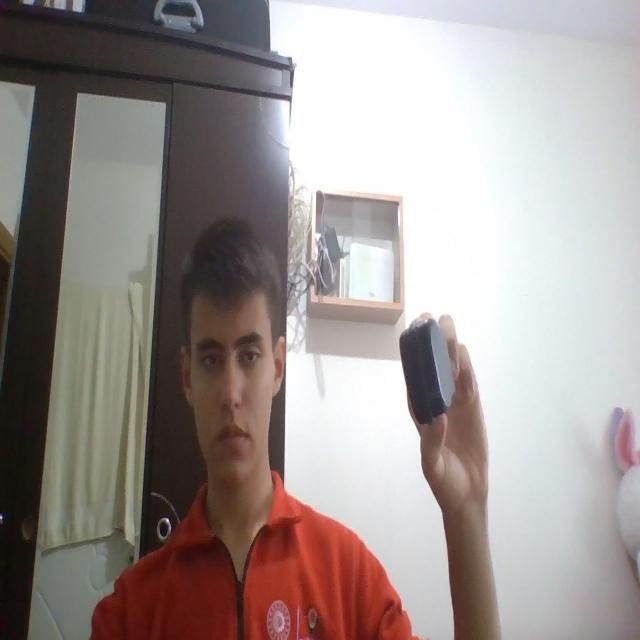glasses-box: (397, 311, 455, 422)
